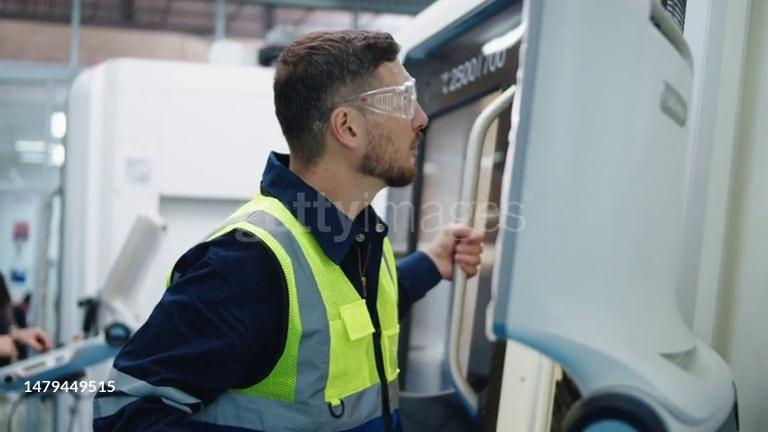person: (89, 26, 485, 432), (0, 270, 49, 360)
